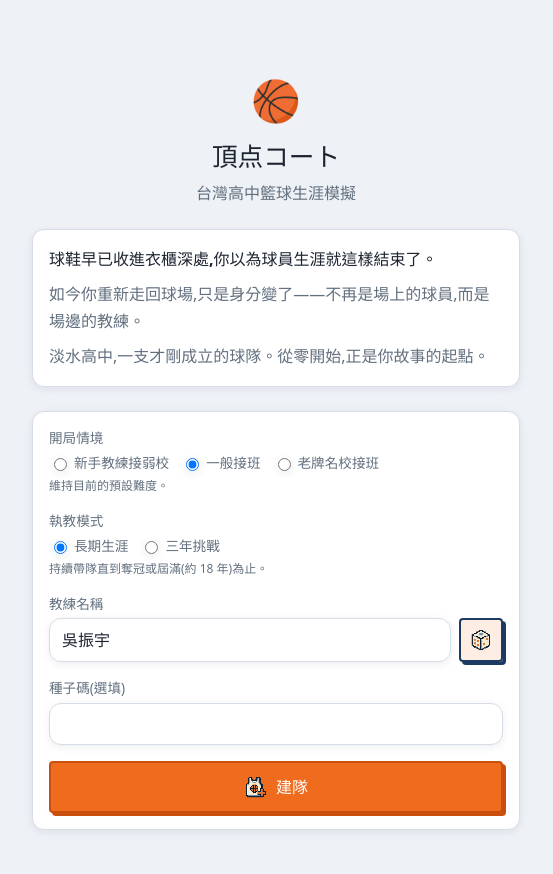
App › lets the player name the coach, then shows the generated roster
The image size is (553, 874).
Replace the text in the field labelled "教練名稱" with "山田" at (250, 640), box [49, 618, 451, 662]
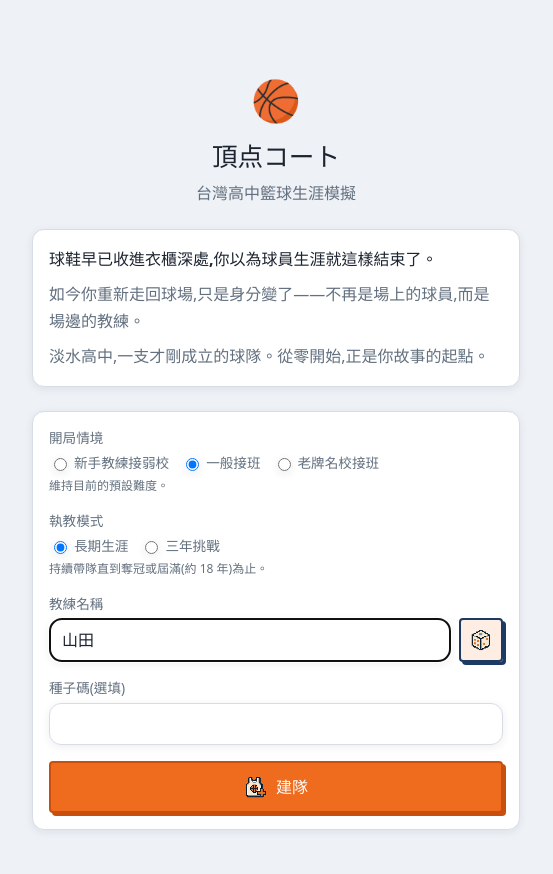
Click the button "建隊" at (276, 787), box [49, 761, 503, 813]
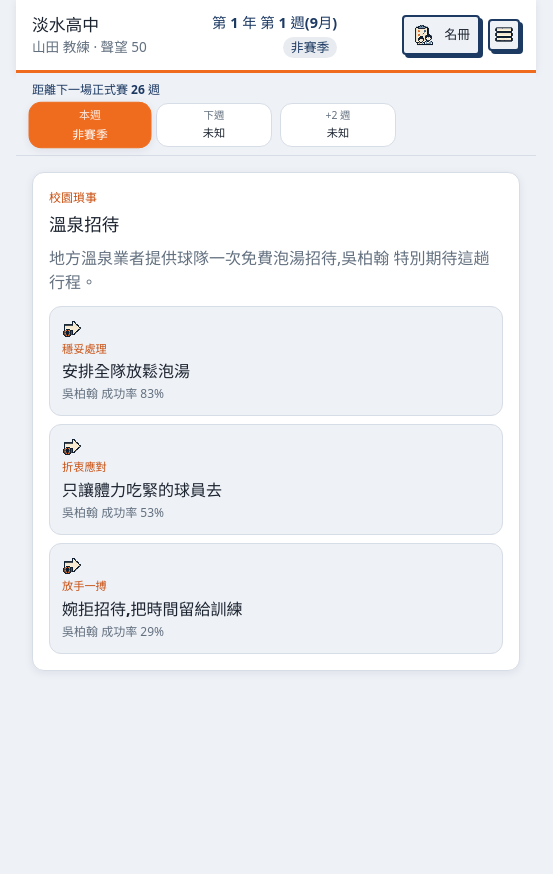
expect the heading "淡水高中" is shown: met, box [32, 13, 99, 36]
expect the text "山田 教練 · 聲望 50" is shown: met, box [32, 37, 147, 58]
Click the button "名冊" at (441, 35), box [402, 15, 480, 55]
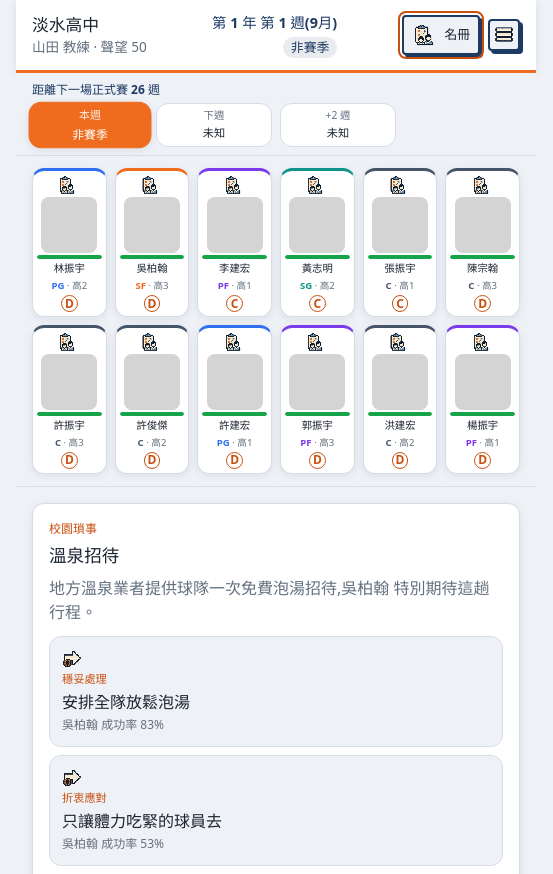
expect the number of buttons with class "roster-tile" is 12: met
